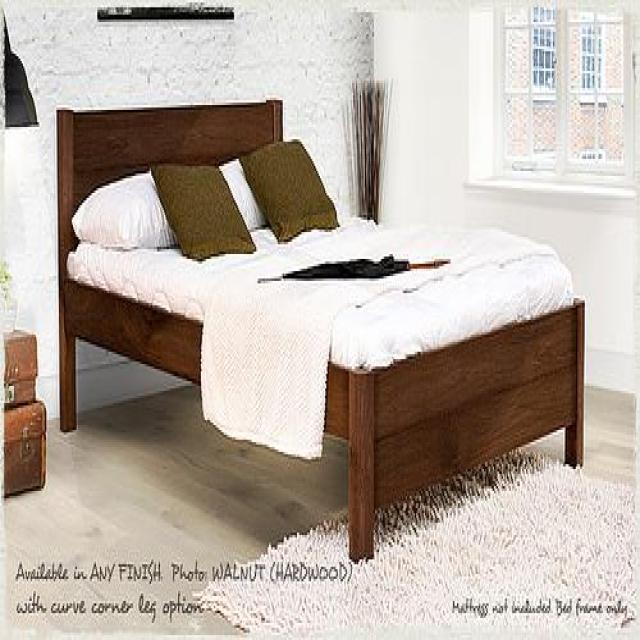bed: (53, 95, 585, 562)
